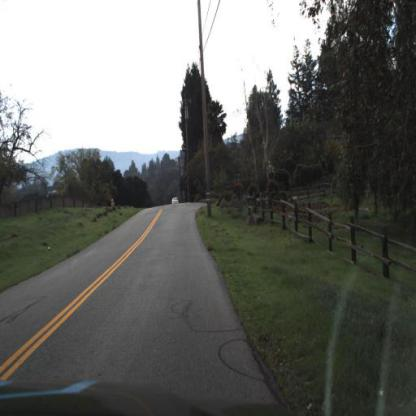car: (168, 194, 183, 212), (171, 196, 180, 209)
